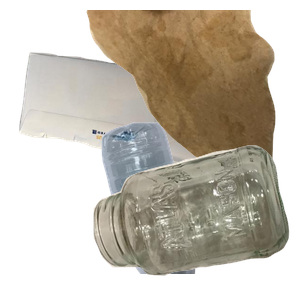glass: (91, 143, 300, 300)
paper: (17, 50, 231, 230)
plastic: (99, 120, 289, 300)
trash: (84, 10, 300, 190)
